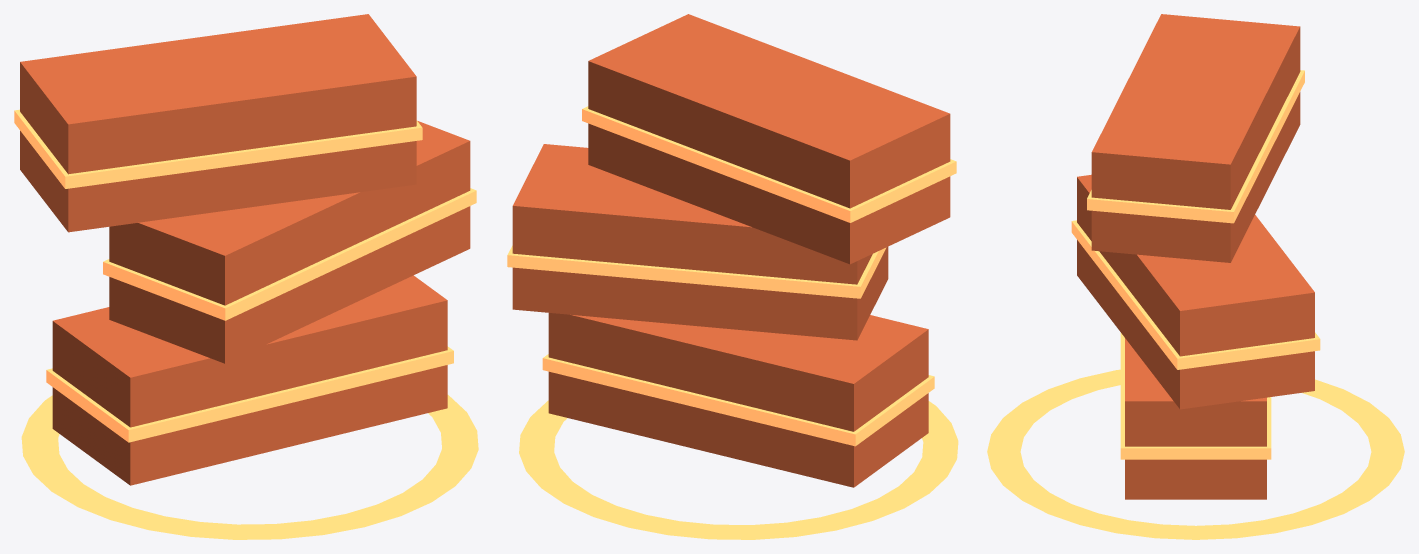
3 views of the same model, side by side, from view 1: azimuth 30°, elevation 25°; view 2: azimuth 150°, elevation 25°; view 3: azimuth 270°, elevation 25° (orthographic). The views are drawn at different scales.
Visible parts, largest first — view 1: emblem_vertical.lod0; view 2: emblem_vertical.lod0; view 3: emblem_vertical.lod0.
Part boxes in pixels (x1,y1,x2,y2): emblem_vertical.lod0: [14, 14, 478, 539]; emblem_vertical.lod0: [507, 14, 958, 539]; emblem_vertical.lod0: [987, 14, 1404, 539].
Bounding box in the file's own units: 1.06 × 0.92 × 1.
